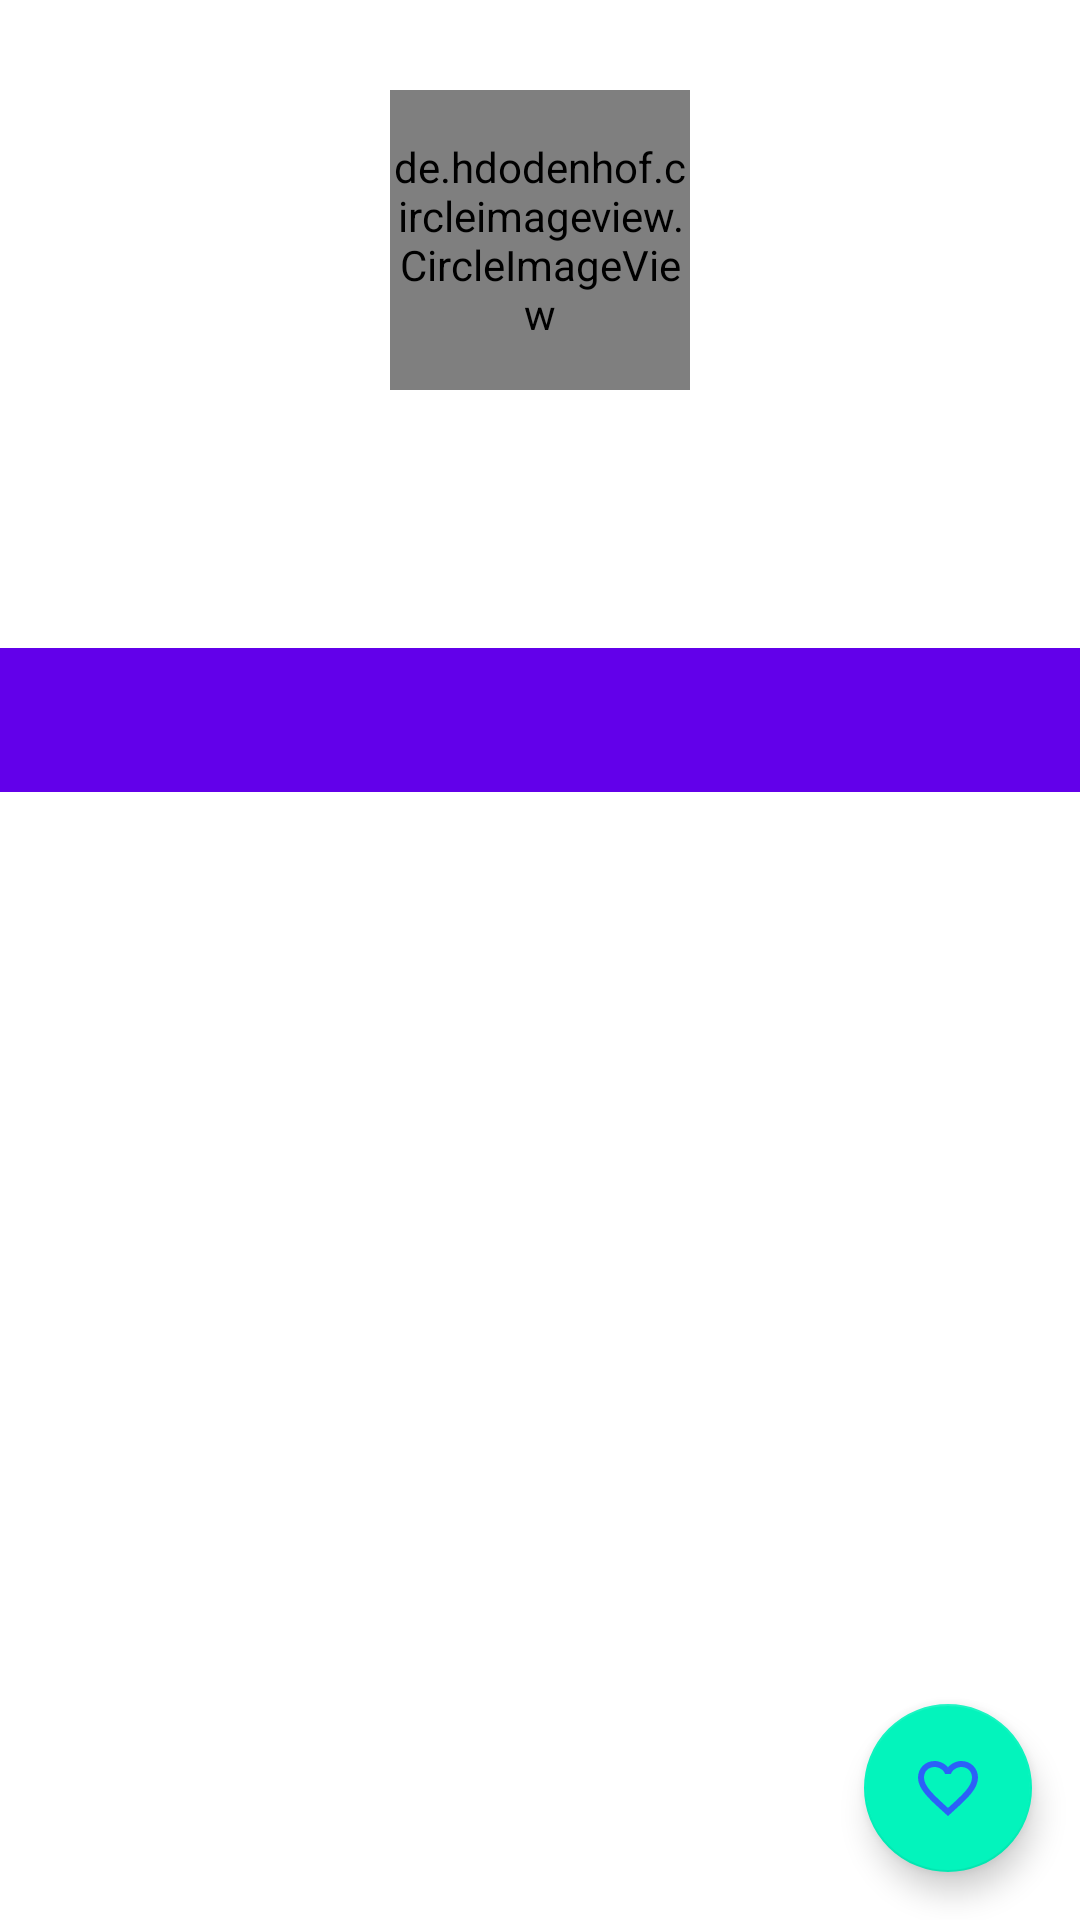

Named icons in this screenshot (1080w x 1920h) and their bounding boxes, (x1, y1, x2, y2):
favorite border: (864, 1704, 1032, 1872)
